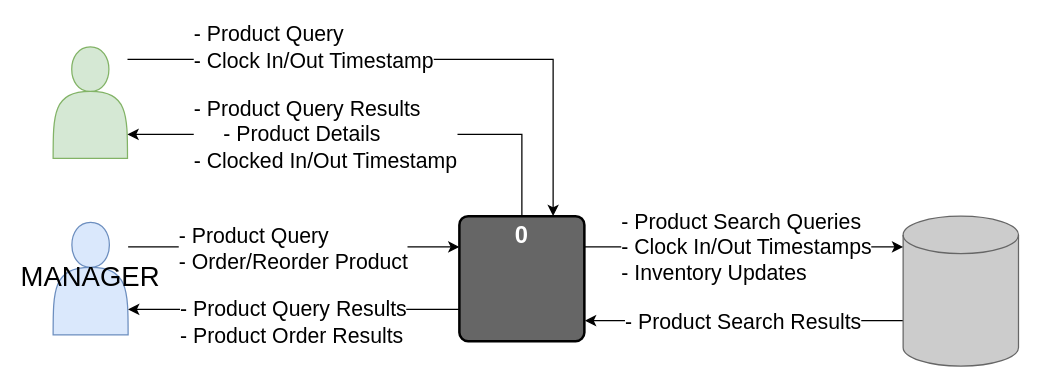
This 1041x388 diagram has some shape labels left out. Here are the shapes that lost their labels. From the top down, the centre of each, then its label:
point (90, 102): EMPLOYEE
point (960, 290): Database
